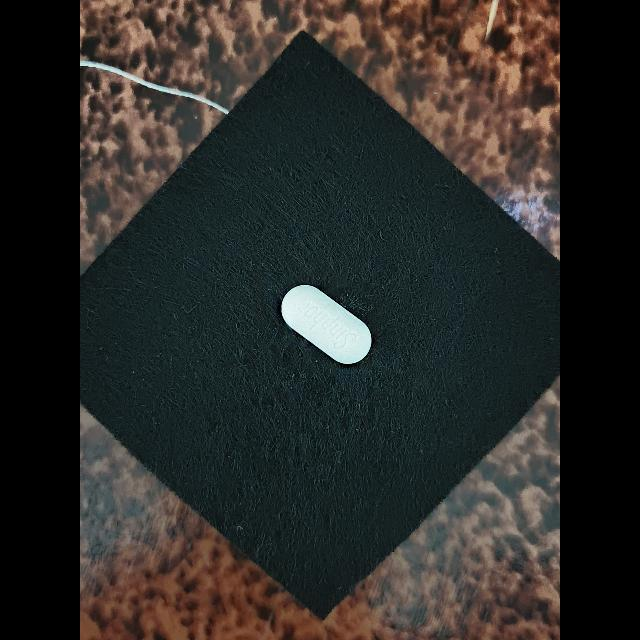Intact Pill: (281, 285, 372, 364)
